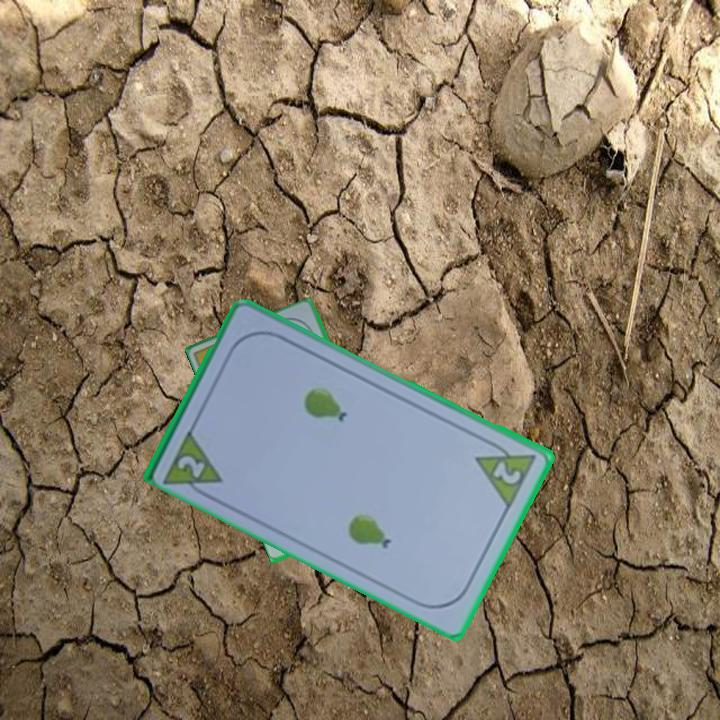2p: (489, 456, 525, 488), (174, 451, 209, 481)
